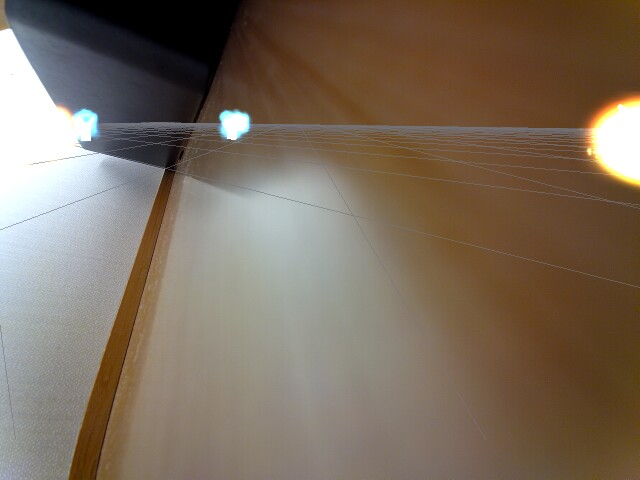firebig: (584, 88, 640, 197)
